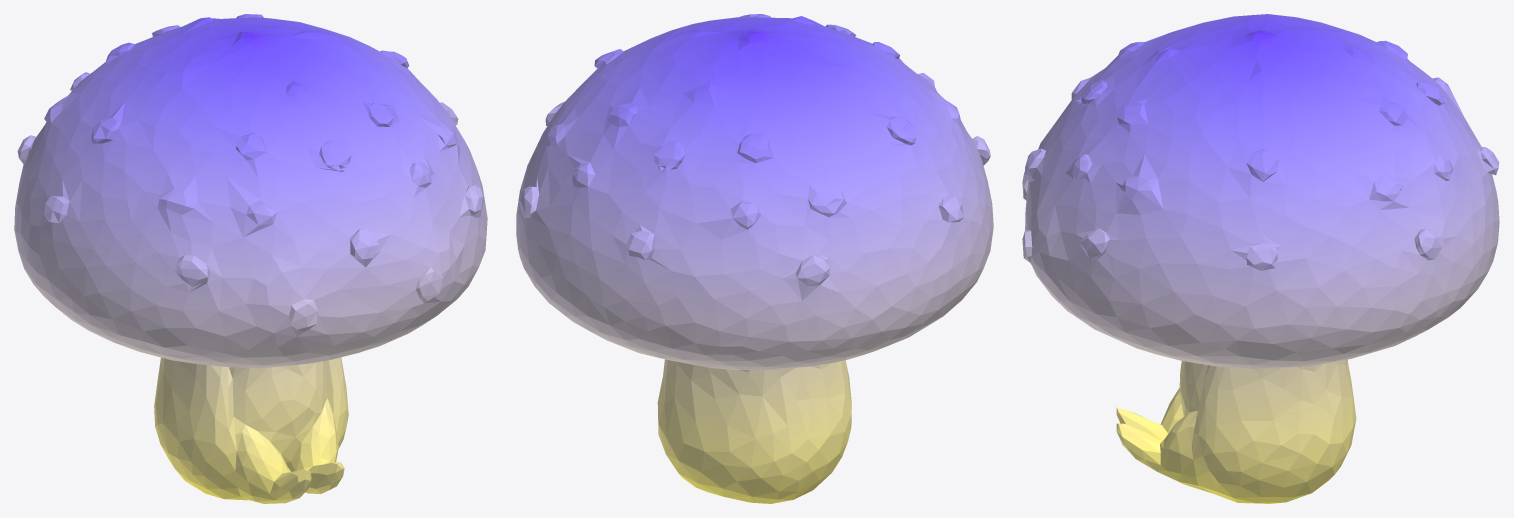
File: 111_cyb_laser_gradient_fish_scales_2915_2026_10_03_08b109.glb
3 renders of one model, left to right at view 1: azimuth 30°, elevation 25°; view 2: azimuth 150°, elevation 25°; view 3: azimuth 270°, elevation 25°, orthographic.
Visible parts, largest first — view 1: geometry_0; view 2: geometry_0; view 3: geometry_0.
Part boxes in pixels (box(x1,y1,x2,y2)): geometry_0: box(14, 14, 487, 503); geometry_0: box(516, 14, 993, 503); geometry_0: box(1022, 14, 1499, 503).
Size of the model in its own units: 0.9562 by 1 by 0.9614.
